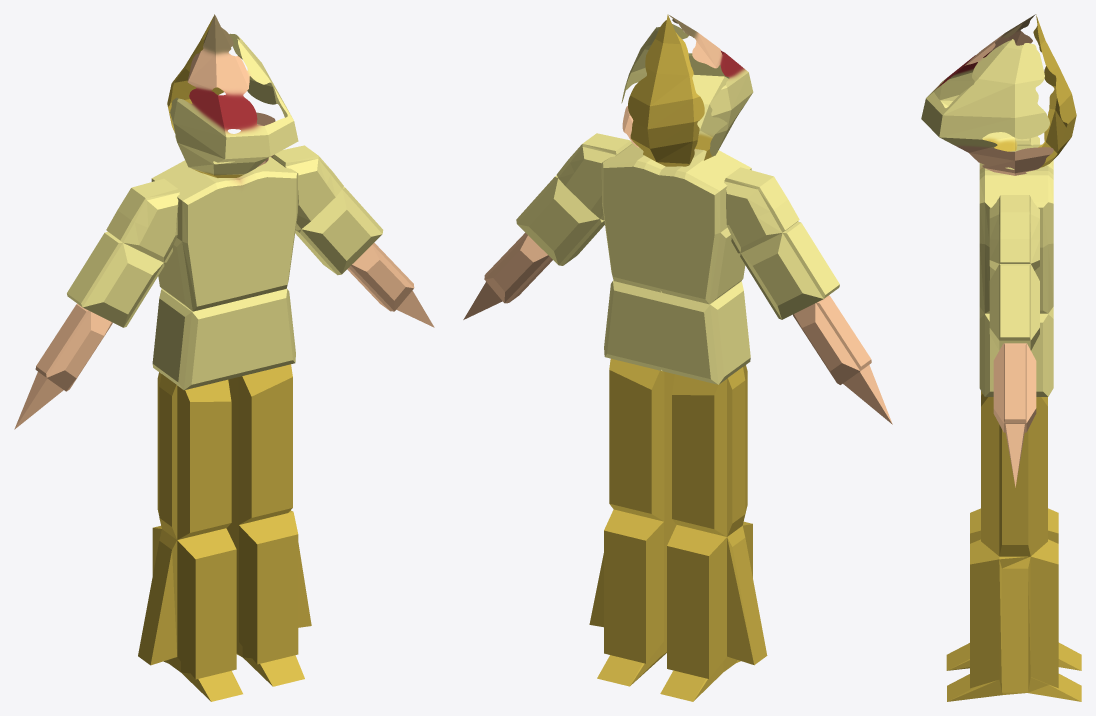
File: ProtoEnemy_Export.fbx
The picture shows the model from 3 angles, left to right: view 1: azimuth 30°, elevation 25°; view 2: azimuth 150°, elevation 25°; view 3: azimuth 270°, elevation 25°; orthographic projection. The views are drawn at different scales.
Visible parts, largest first — view 1: Proto_Enemy; view 2: Proto_Enemy; view 3: Proto_Enemy.
Boxes of the visible parts, bbox=[...] form: Proto_Enemy: bbox=[14, 14, 434, 701]; Proto_Enemy: bbox=[463, 14, 892, 701]; Proto_Enemy: bbox=[921, 14, 1081, 701].
Bounding box in the file's own units: 3.7 × 5.42 × 1.19.
Materials: 1 (1 with a texture image).
